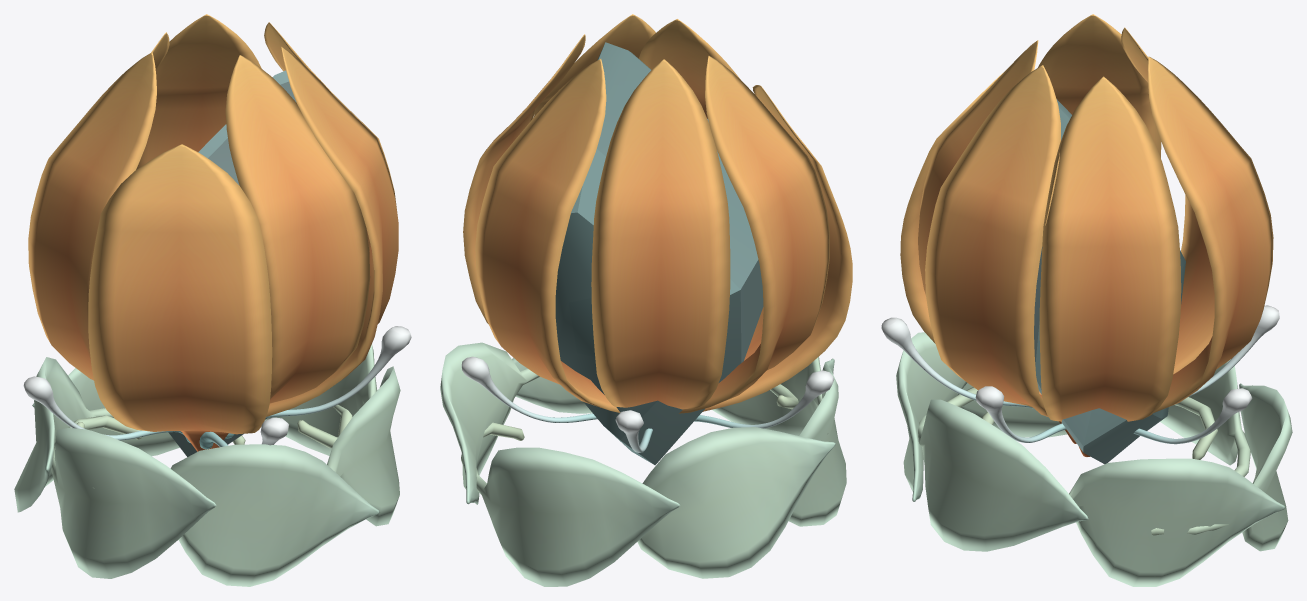
Rendered from PropMenuMesh.fbx.
The picture shows the model from 3 angles, left to right: view 1: azimuth 30°, elevation 25°; view 2: azimuth 150°, elevation 25°; view 3: azimuth 270°, elevation 25°; orthographic projection. The views are drawn at different scales.
Visible parts, largest first — view 1: flowerMesh, leafMesh, stoneMesh; view 2: flowerMesh, leafMesh, stoneMesh; view 3: flowerMesh, leafMesh, stoneMesh.
Boxes of the visible parts, x1,y1,x2,y2 form: flowerMesh: (23,14,411,451); leafMesh: (14,344,400,586); stoneMesh: (168,70,296,456); flowerMesh: (461,14,852,452); leafMesh: (440,342,846,586); stoneMesh: (555,42,763,465); flowerMesh: (881,14,1279,456); leafMesh: (896,332,1292,586); stoneMesh: (1034,99,1185,464).
Bounding box in the file's own units: 4.51 × 5.91 × 4.48.
